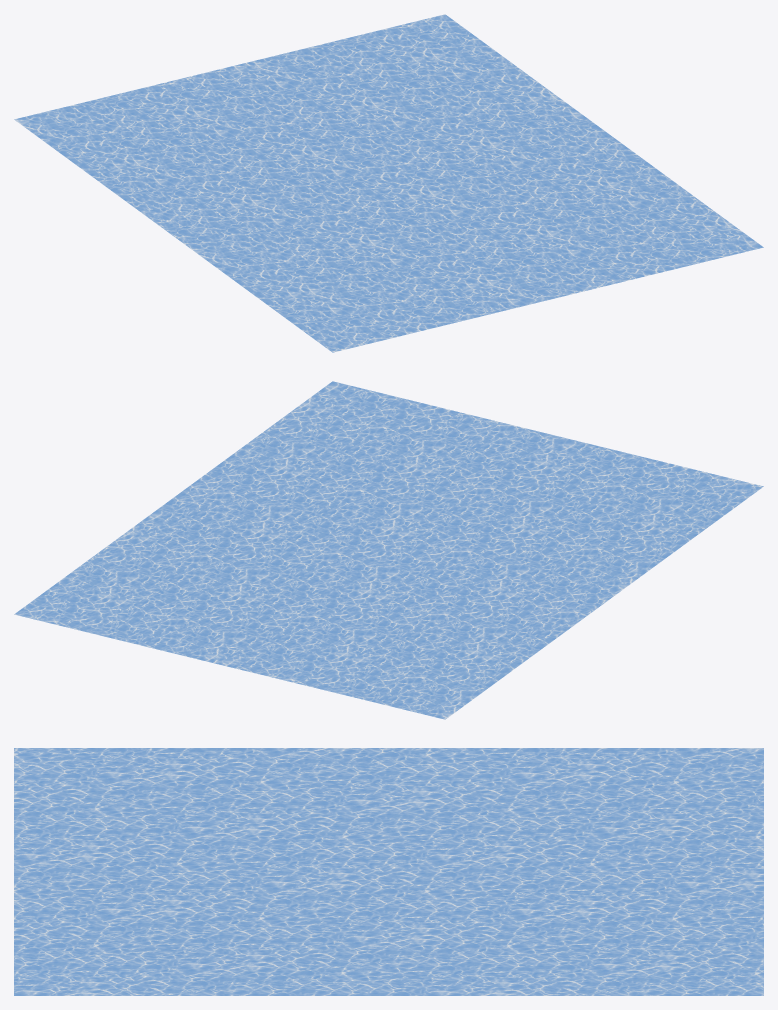
File: lago.fbx
3 renders of one model, top to bottom at view 1: azimuth 30°, elevation 25°; view 2: azimuth 150°, elevation 25°; view 3: azimuth 270°, elevation 25°, orthographic. The views are drawn at different scales.
Visible parts, largest first — view 1: Grid.001; view 2: Grid.001; view 3: Grid.001.
Part boxes in pixels (x1,y1,x2,y2): Grid.001: (14,14,763,352); Grid.001: (14,381,763,719); Grid.001: (14,748,763,995).
Bounding box in the file's own units: 24758 × 0.00516 × 31683.
1 material, 1 textured.
